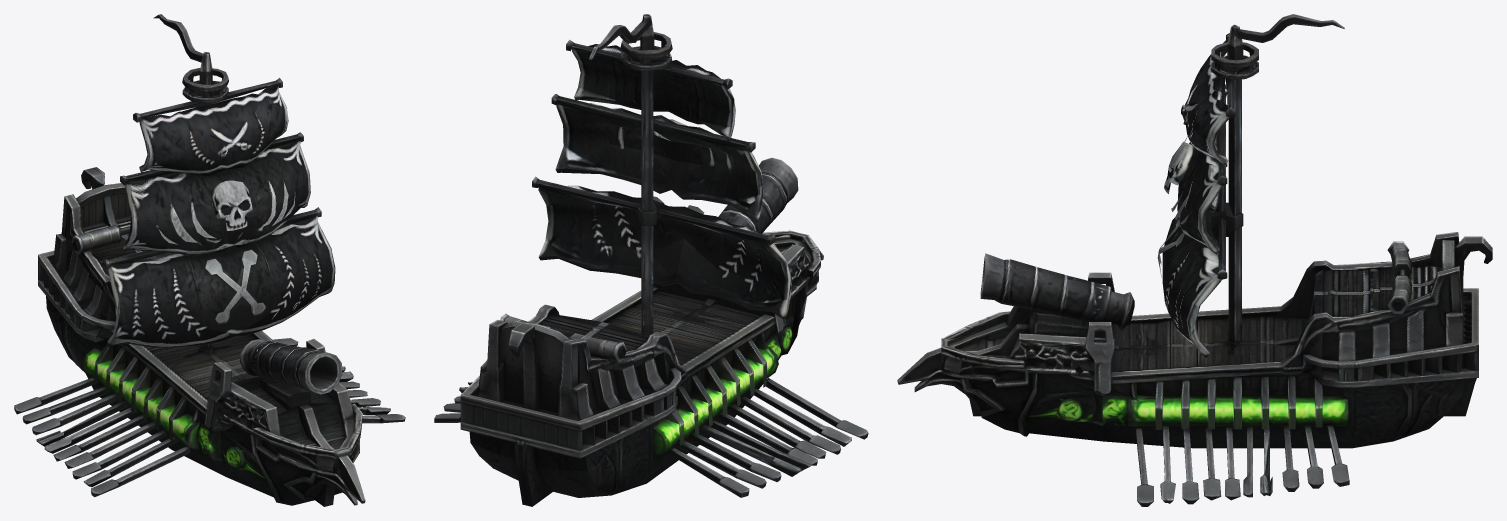
Rendered from base_basic_gameplay_pbr.glb.
3 renders of one model, left to right at view 1: azimuth 30°, elevation 25°; view 2: azimuth 150°, elevation 25°; view 3: azimuth 270°, elevation 25°, orthographic. The views are drawn at different scales.
Parts seen in each view (by area): view 1: model; view 2: model; view 3: model.
Part boxes in pixels (x1=…): model: x1=14, y1=14, x2=405, y2=506; model: x1=434, y1=14, x2=868, y2=506; model: x1=897, y1=14, x2=1492, y2=506.
Size of the model in its own units: 1.23 by 1.46 by 1.9.
1 material, 1 textured.
